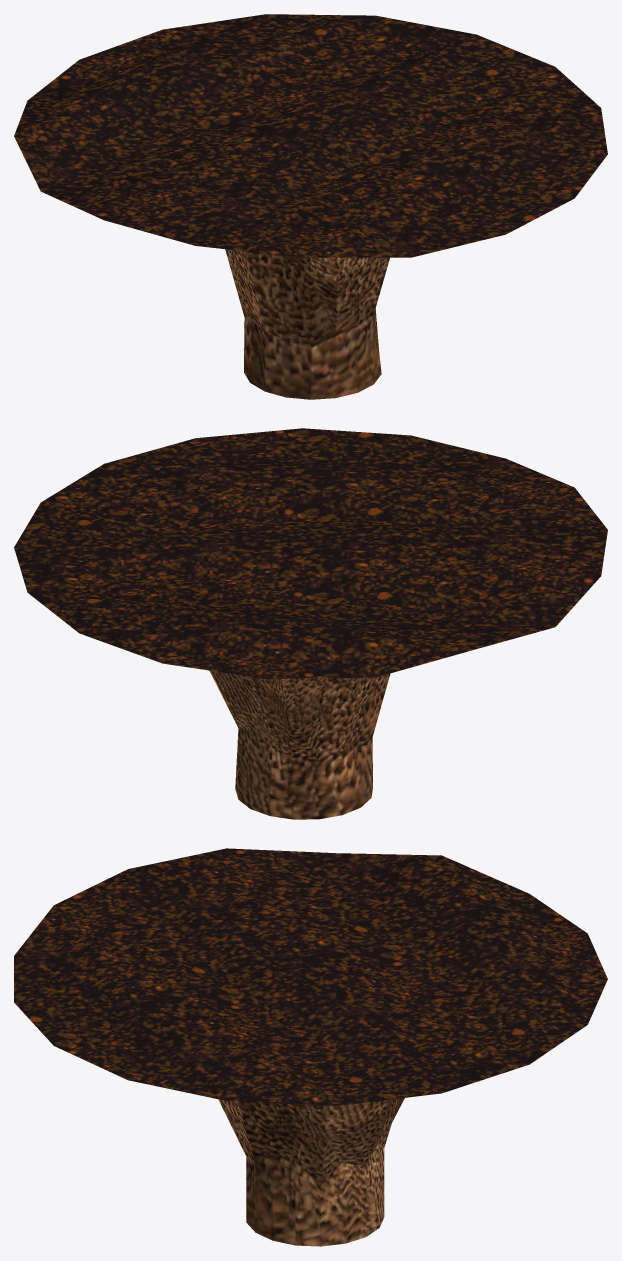
The model's file is mushroom_platform.glb.
3 views of the same model, one above another, from view 1: azimuth 30°, elevation 25°; view 2: azimuth 150°, elevation 25°; view 3: azimuth 270°, elevation 25° (orthographic).
Parts seen in each view (by area): view 1: Cylinder.001, Cylinder; view 2: Cylinder.001, Cylinder; view 3: Cylinder.001, Cylinder.
Boxes of the visible parts, x1,y1,x2,y2 form: Cylinder.001: (14,14,607,257); Cylinder: (225,249,389,399); Cylinder.001: (14,428,607,678); Cylinder: (209,670,390,819); Cylinder.001: (14,848,607,1105); Cylinder: (218,1098,404,1246).
Size of the model in its own units: 8.58 by 3.91 by 8.55.
2 materials, 2 textured.
